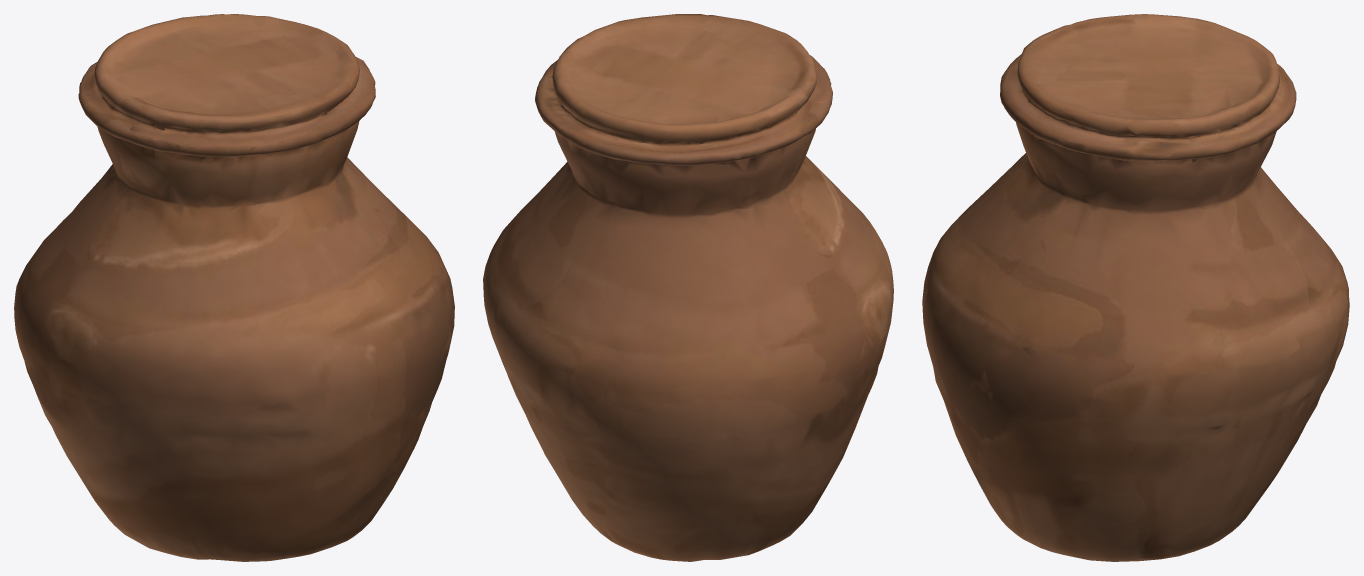
Rendered from ClayJug.glb.
3 renders of one model, left to right at view 1: azimuth 30°, elevation 25°; view 2: azimuth 150°, elevation 25°; view 3: azimuth 270°, elevation 25°, orthographic.
Visible parts, largest first — view 1: ClayJug; view 2: ClayJug; view 3: ClayJug.
Boxes of the visible parts, x1=… form: ClayJug: x1=14, y1=14, x2=454, y2=561; ClayJug: x1=483, y1=14, x2=893, y2=561; ClayJug: x1=922, y1=14, x2=1349, y2=561.
Bounding box in the file's own units: 0.4085 × 0.4801 × 0.4073.
Materials: 1 (1 with a texture image).
